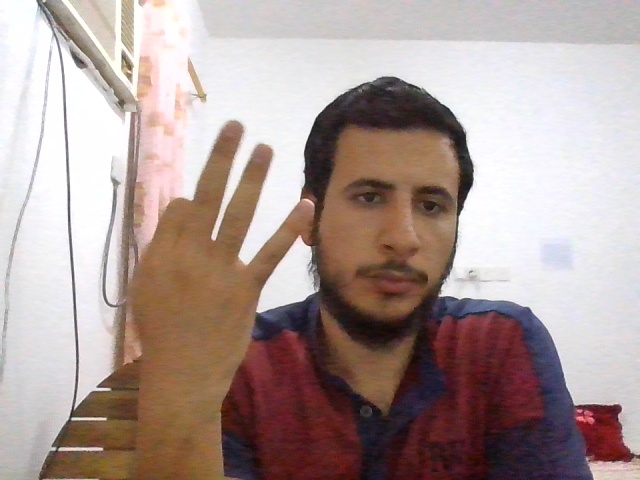Three: (129, 120, 315, 379)
